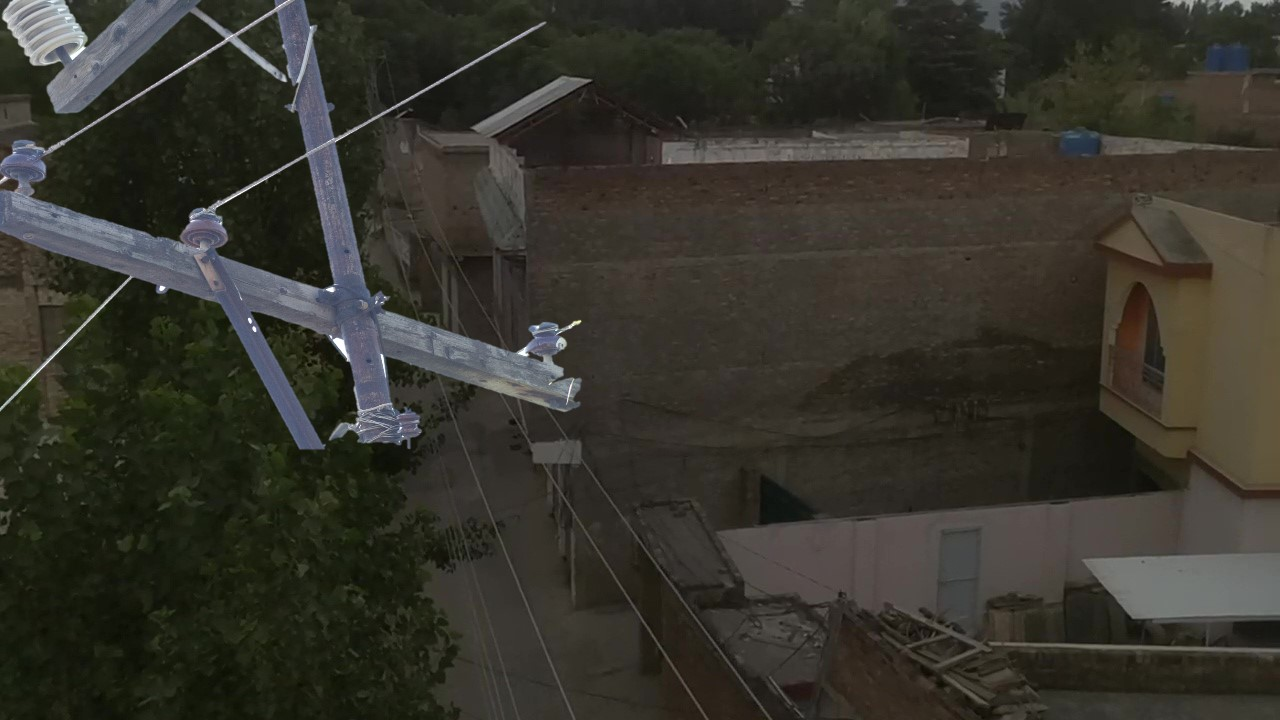defect_pin: (520, 306, 580, 361)
insulator_pin: (176, 202, 234, 257), (9, 132, 51, 192)
